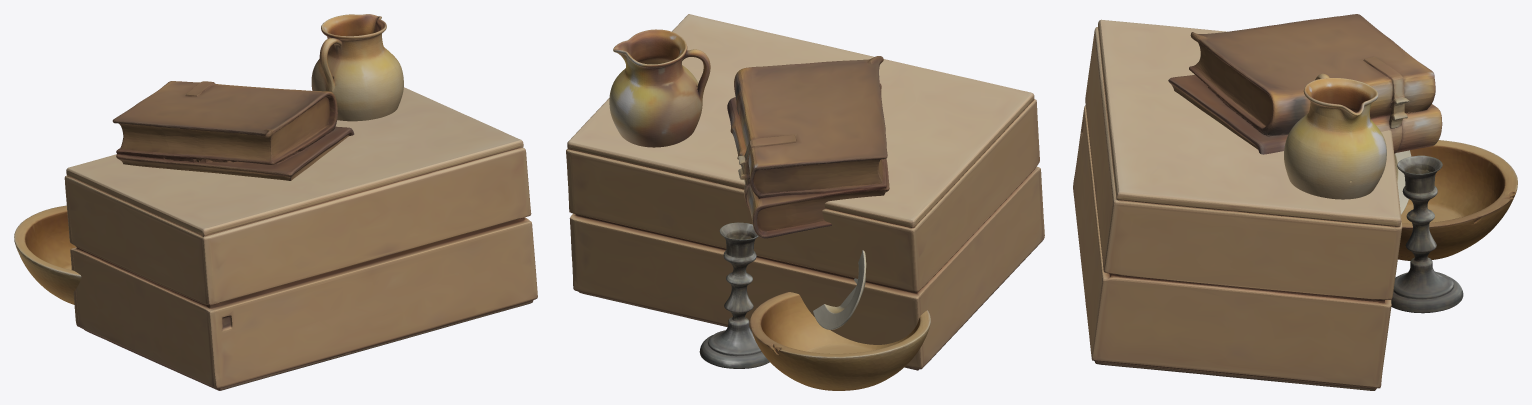
The model's file is sam3d.glb.
3 views of the same model, side by side, from view 1: azimuth 30°, elevation 25°; view 2: azimuth 150°, elevation 25°; view 3: azimuth 270°, elevation 25° (orthographic). The views are drawn at different scales.
Parts seen in each view (by area): view 1: object_05, object_04, object_01, object_02; view 2: object_05, object_04, object_02, object_01, object_00, object_03; view 3: object_05, object_04, object_01, object_02, object_00, object_03.
Boxes of the visible parts, x1,y1,x2,y2 form: object_05: (64, 87, 537, 390); object_04: (112, 81, 354, 180); object_01: (311, 14, 403, 121); object_02: (14, 205, 81, 304); object_05: (566, 14, 1044, 370); object_04: (727, 56, 889, 238); object_02: (750, 292, 930, 390); object_01: (609, 29, 710, 147); object_00: (699, 222, 769, 368); object_03: (813, 250, 866, 329); object_05: (1073, 19, 1402, 390); object_04: (1168, 14, 1442, 154); object_01: (1284, 73, 1386, 199); object_02: (1398, 140, 1517, 260); object_00: (1391, 155, 1463, 313); object_03: (1394, 150, 1411, 214).
Size of the model in its own units: 1.1 by 0.7181 by 1.05.
